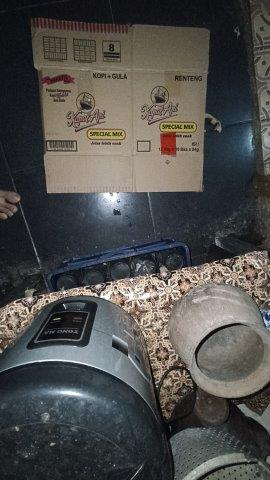kardus: (32, 20, 209, 193)
